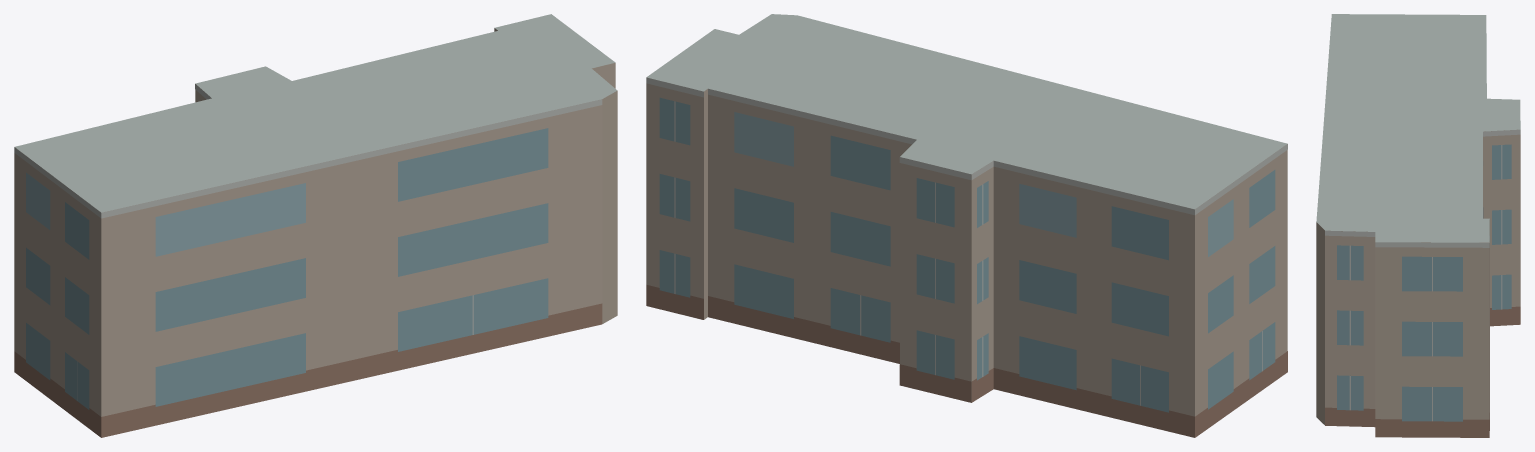
File: survey-upis-32805403.glb
The picture shows the model from 3 angles, left to right: view 1: azimuth 30°, elevation 25°; view 2: azimuth 150°, elevation 25°; view 3: azimuth 270°, elevation 25°; orthographic projection. The views are drawn at different scales.
Parts seen in each view (by area): view 1: survey-upis-32805403.tmp; view 2: survey-upis-32805403.tmp; view 3: survey-upis-32805403.tmp.
Boxes of the visible parts, <box> form: survey-upis-32805403.tmp: <box>14,14,617,437</box>; survey-upis-32805403.tmp: <box>646,14,1287,437</box>; survey-upis-32805403.tmp: <box>1316,14,1520,437</box>.
Bounding box in the file's own units: 23.65 × 9.4 × 8.93.
